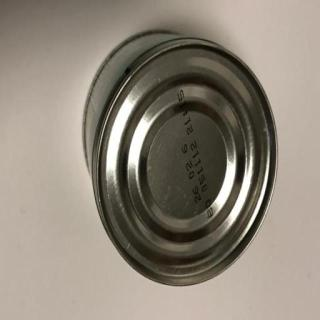Anorganik: (82, 27, 280, 292)
